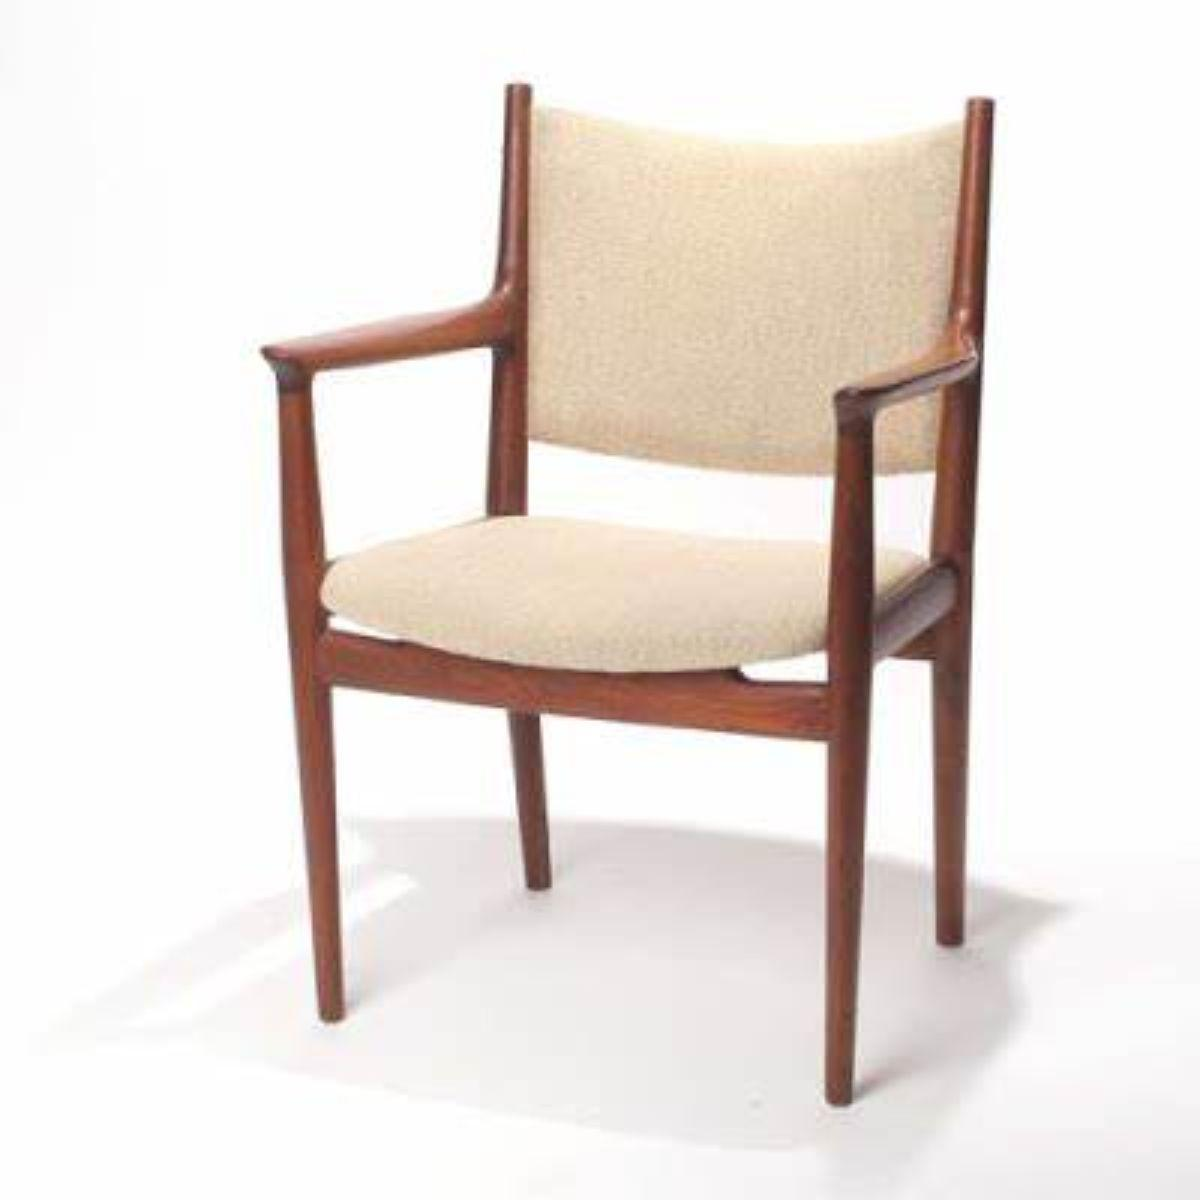Chair: (264, 77, 1004, 1108)
